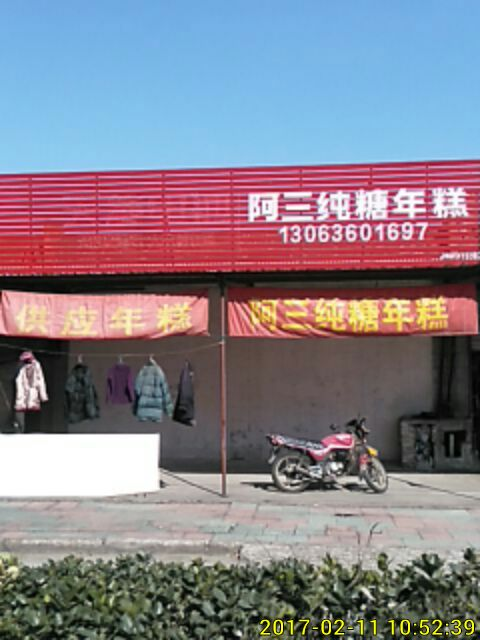multi_signs: (230, 160, 478, 274), (225, 284, 479, 342), (1, 285, 209, 337)
